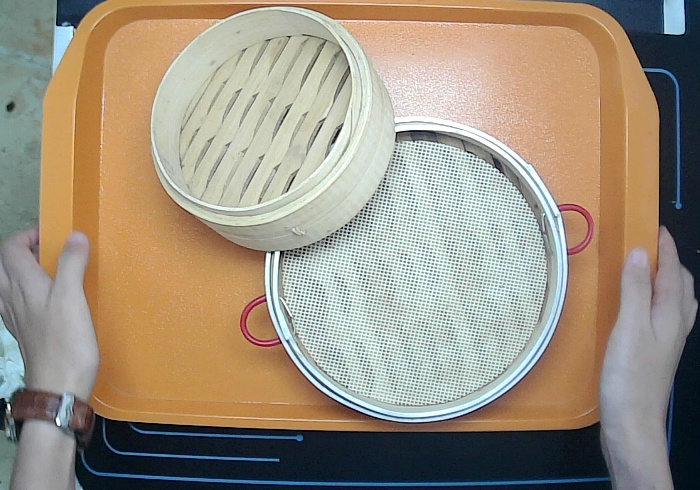ZNLD-Da_Zheng_Long: (235, 112, 604, 431)
ZNLD-Xiao_Zheng_Long: (146, 1, 402, 255)
